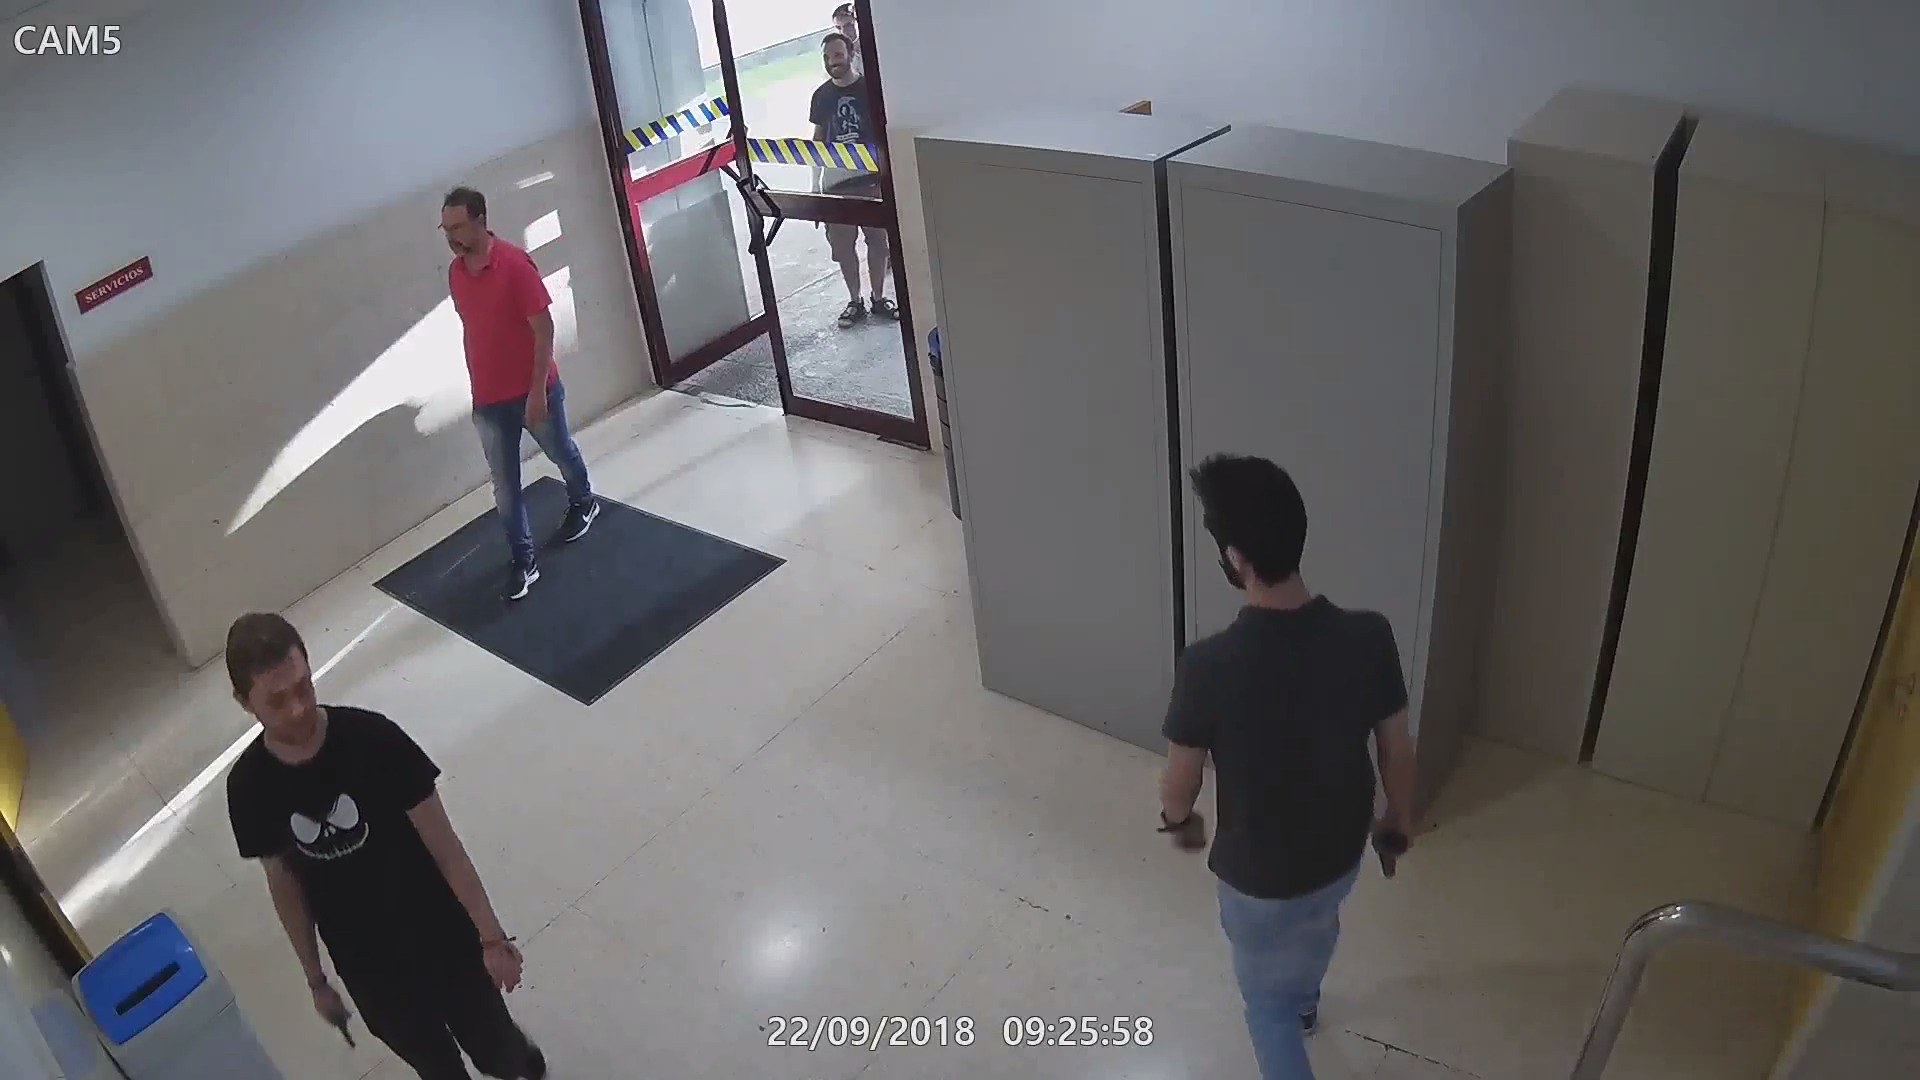Handgun: (309, 998, 364, 1072), (1360, 800, 1414, 866)
